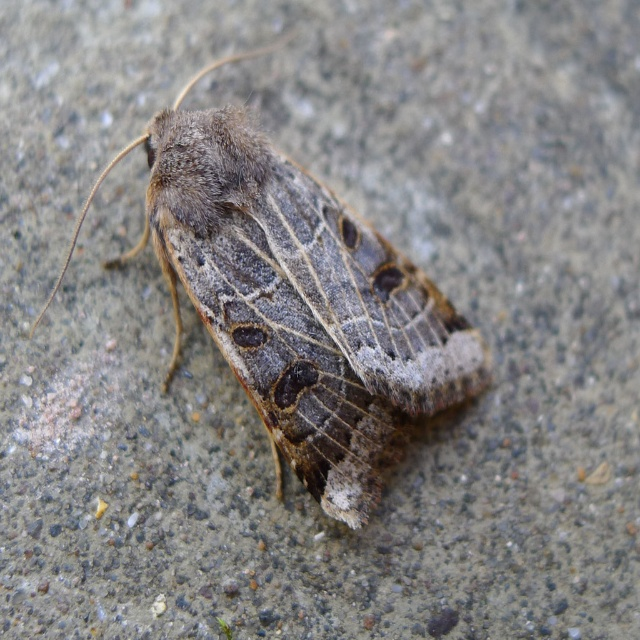Moths and butterflies: (30, 27, 497, 527)
